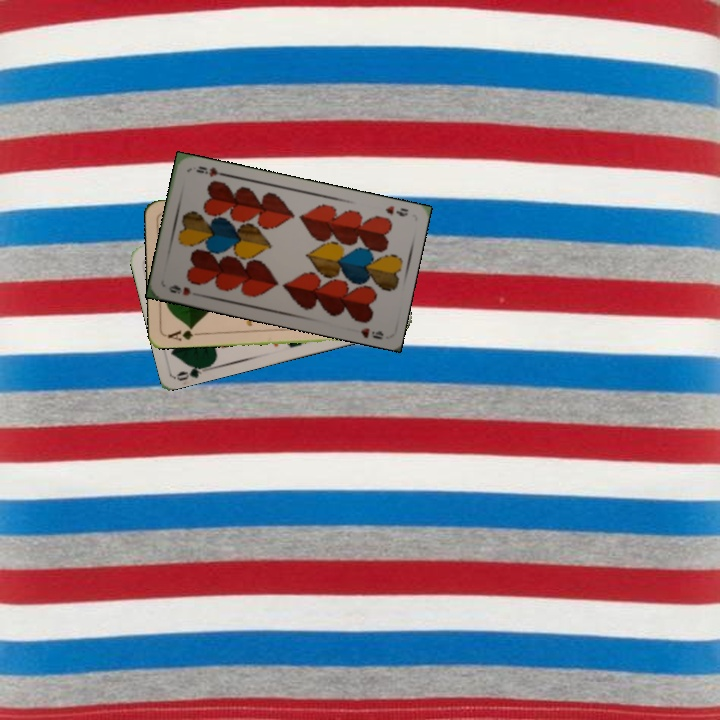GA: (163, 323, 204, 343)
GO: (174, 360, 214, 384)
H9: (381, 202, 411, 219), (165, 281, 194, 298)
